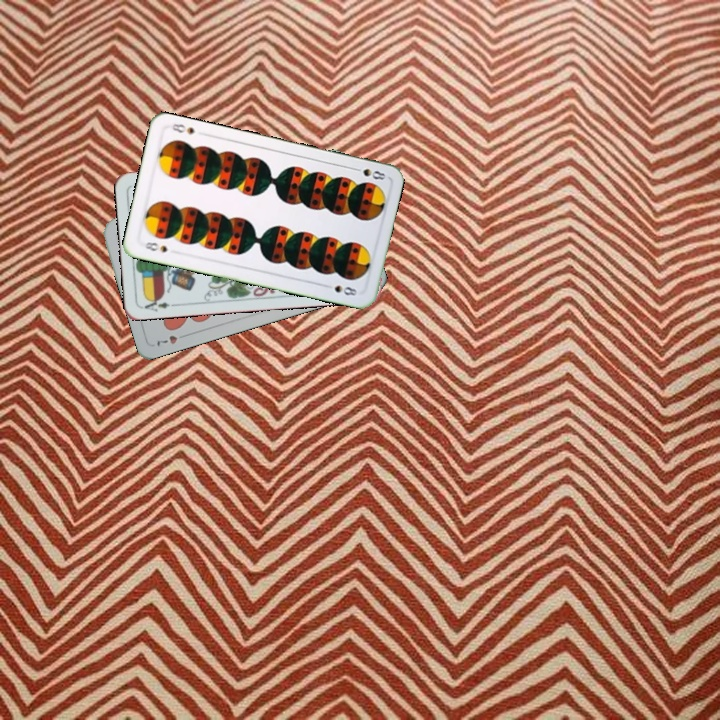EA: (139, 294, 179, 314)
H7: (153, 330, 191, 349)
S8: (348, 163, 388, 183), (140, 238, 170, 255)
